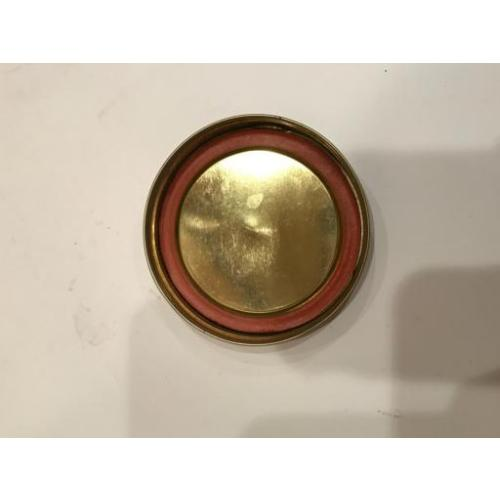metal: (141, 112, 367, 346)
